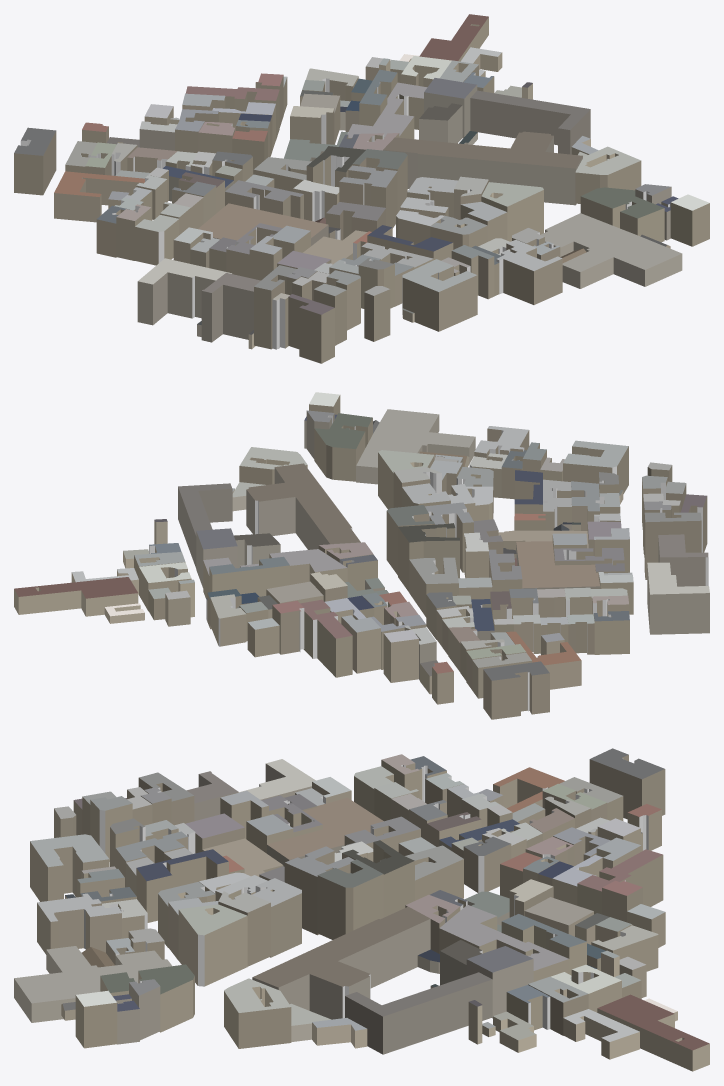
3 views of the same model, one above another, from view 1: azimuth 30°, elevation 25°; view 2: azimuth 150°, elevation 25°; view 3: azimuth 270°, elevation 25° (orthographic). The views are drawn at different scales.
Visible parts, largest first — view 1: tuile; view 2: tuile; view 3: tuile.
Boxes of the visible parts, left/top/right/bottom form: tuile: left=14, top=14, right=709, bottom=363; tuile: left=14, top=392, right=709, bottom=719; tuile: left=14, top=748, right=709, bottom=1071.
Bounding box in the file's own units: 293 × 41.06 × 289.
